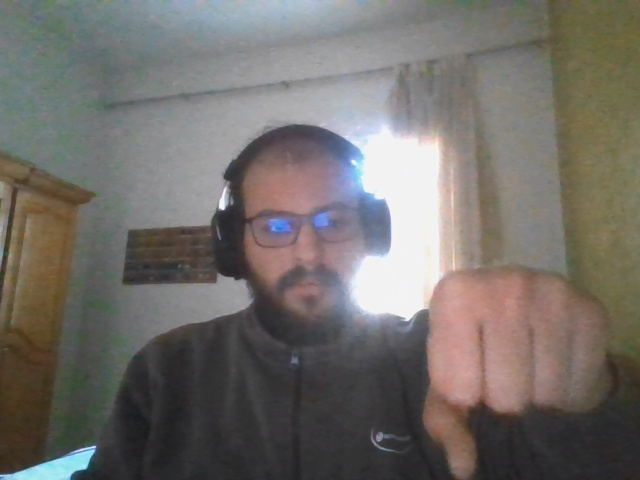Yes: (426, 268, 600, 477)
